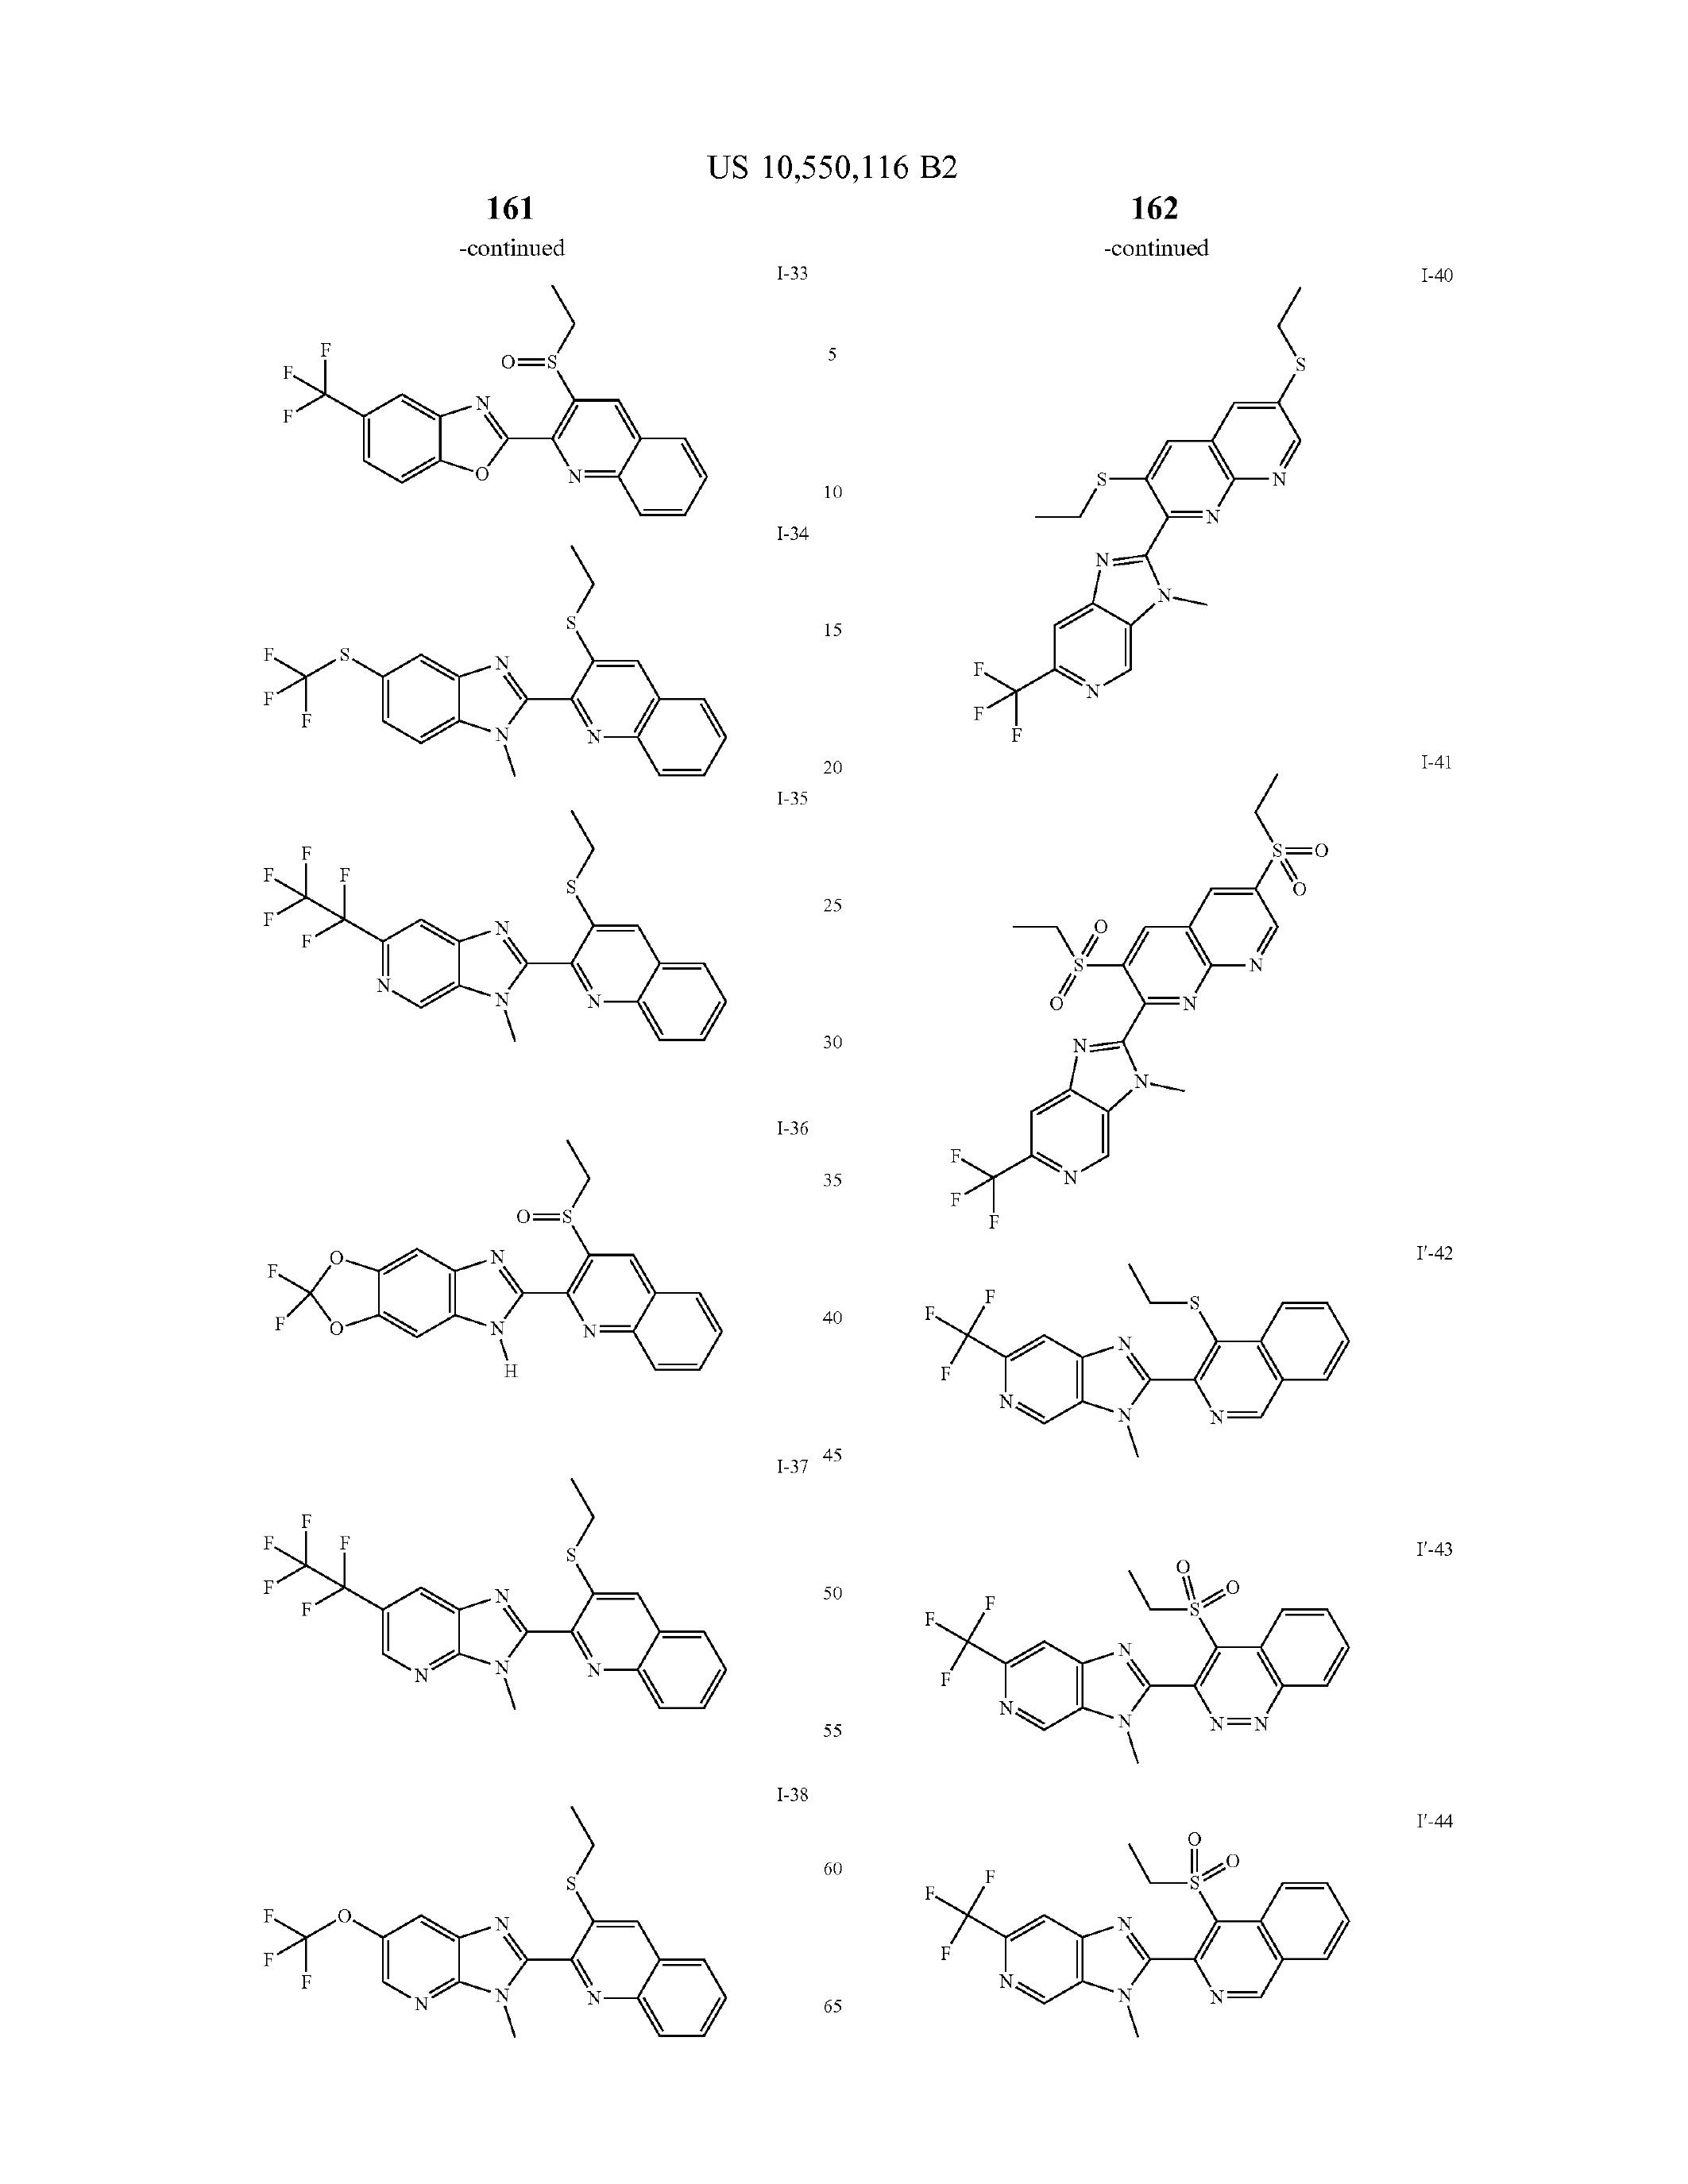relevant-structures: (222, 266, 1468, 2131)
